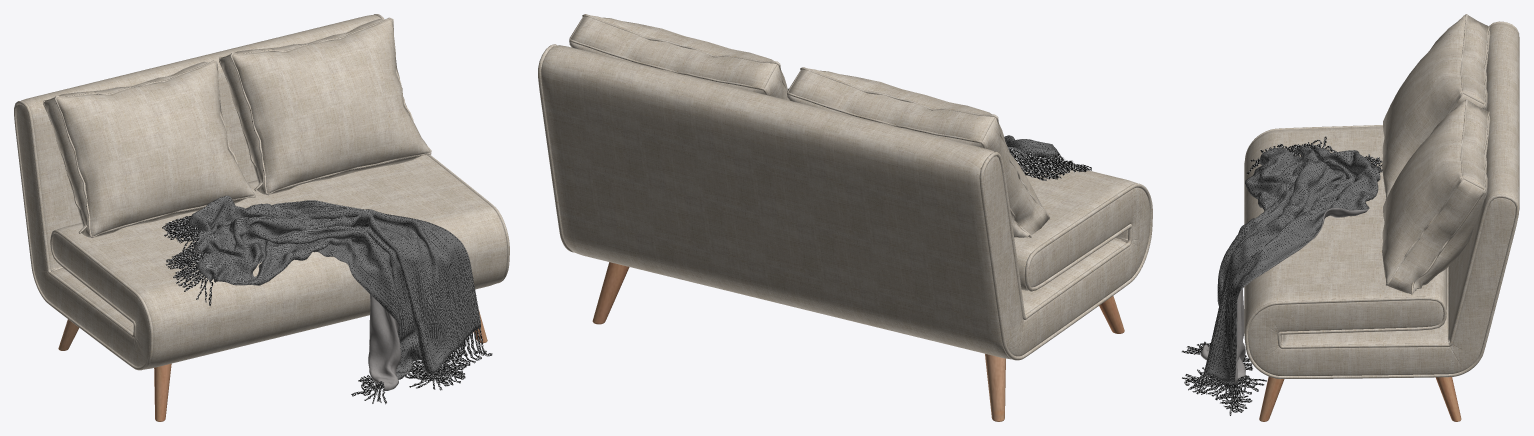
File: MEGA_PACK_Sofa__2-seater_modular_sofa.glb
3 views of the same model, side by side, from view 1: azimuth 30°, elevation 25°; view 2: azimuth 150°, elevation 25°; view 3: azimuth 270°, elevation 25° (orthographic). The views are drawn at different scales.
Visible parts, largest first — view 1: 2-seater modular sofa; view 2: 2-seater modular sofa; view 3: 2-seater modular sofa.
Part boxes in pixels (box(x1,y1,x2,y2)): 2-seater modular sofa: box(14, 14, 509, 421); 2-seater modular sofa: box(538, 14, 1152, 421); 2-seater modular sofa: box(1181, 14, 1519, 421).
Bounding box in the file's own units: 1.2 × 0.7984 × 0.9829.
6 materials, 5 textured.
